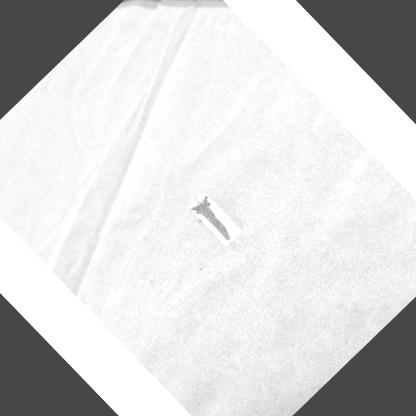buruk: (191, 195, 232, 241)
